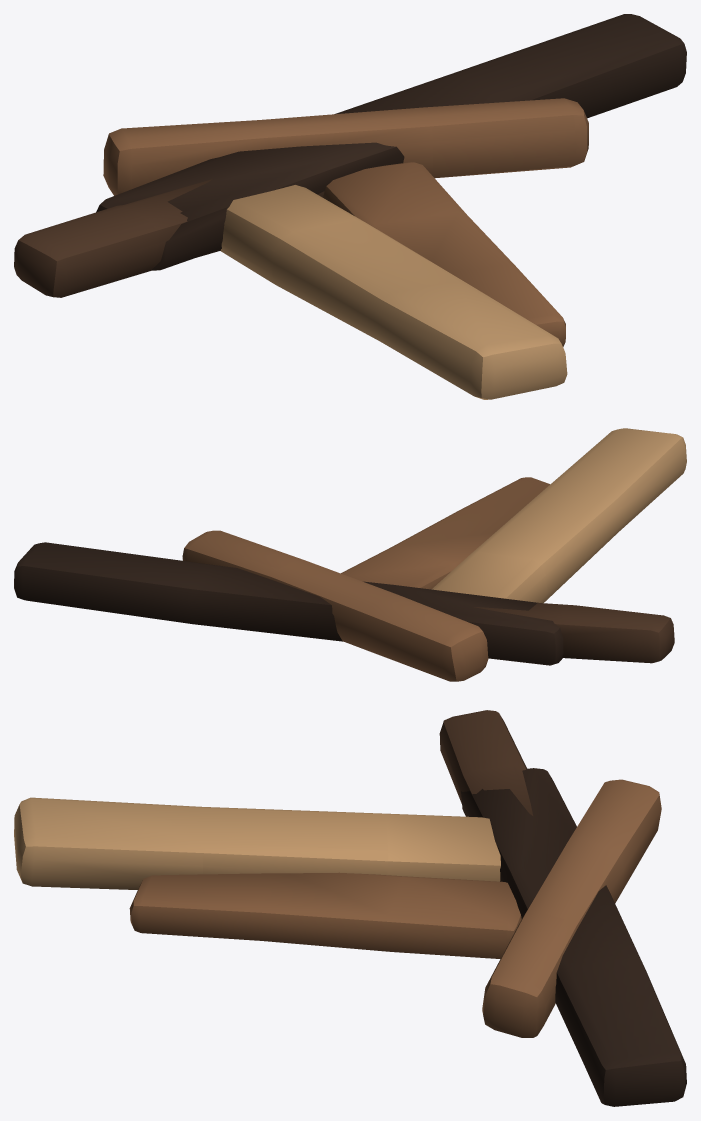
File: ember_gc_wood_chips_a.glb
3 renders of one model, top to bottom at view 1: azimuth 30°, elevation 25°; view 2: azimuth 150°, elevation 25°; view 3: azimuth 270°, elevation 25°, orthographic. The views are drawn at different scales.
Parts seen in each view (by area): view 1: ember_gc_wood_chips_a; view 2: ember_gc_wood_chips_a; view 3: ember_gc_wood_chips_a.
Boxes of the visible parts, <box> form: ember_gc_wood_chips_a: <box>14,14,686,399</box>; ember_gc_wood_chips_a: <box>14,428,686,681</box>; ember_gc_wood_chips_a: <box>14,710,686,1106</box>.
Size of the model in its own units: 2.51 by 0.2825 by 2.09.
